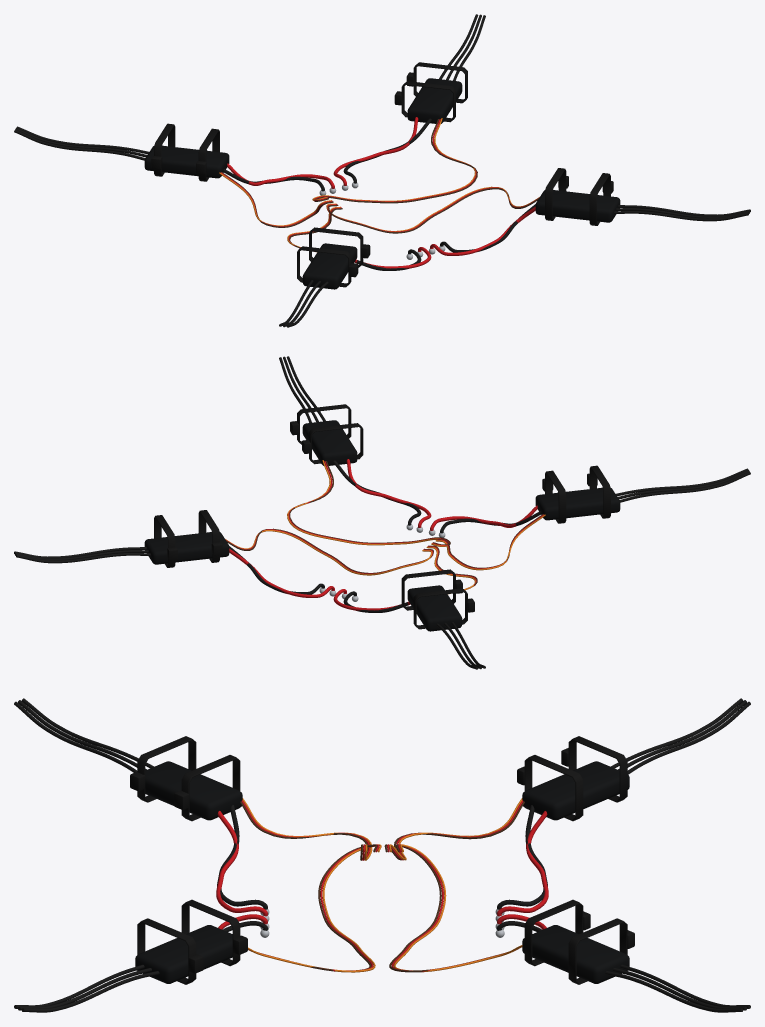
File: F450_escs.glb
3 renders of one model, top to bottom at view 1: azimuth 30°, elevation 25°; view 2: azimuth 150°, elevation 25°; view 3: azimuth 270°, elevation 25°, orthographic. The views are drawn at different scales.
Parts seen in each view (by area): view 1: F450_escs_plain, F450_escs_labelled; view 2: F450_escs_plain, F450_escs_labelled; view 3: F450_escs_plain, F450_escs_labelled.
Part boxes in pixels (bbox=[...]): F450_escs_plain: bbox=[14, 14, 750, 327]; F450_escs_labelled: bbox=[144, 78, 620, 289]; F450_escs_plain: bbox=[14, 356, 750, 669]; F450_escs_labelled: bbox=[144, 420, 620, 631]; F450_escs_plain: bbox=[14, 698, 750, 1012]; F450_escs_labelled: bbox=[135, 761, 629, 983].
Size of the model in its own units: 0.307 by 0.0409 by 0.307.
